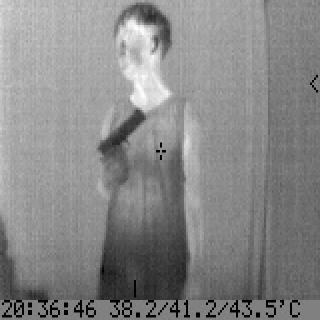Gun: (96, 105, 148, 187)
